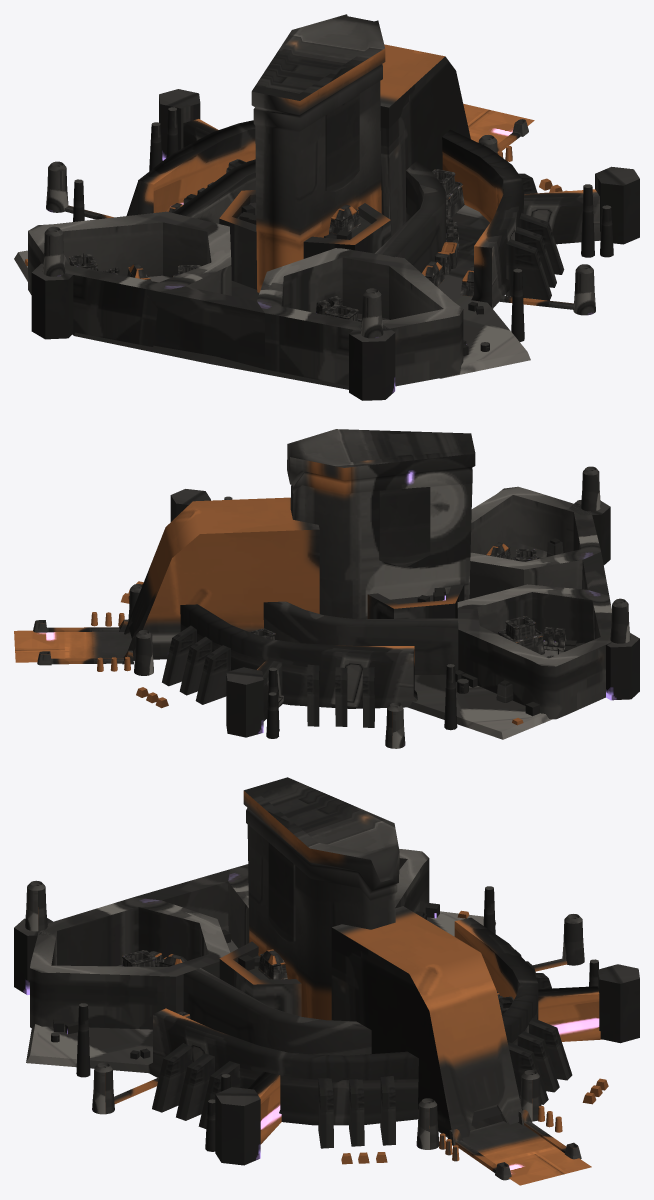
Rendered from ContractHall.fbx.
The picture shows the model from 3 angles, top to bottom: view 1: azimuth 30°, elevation 25°; view 2: azimuth 150°, elevation 25°; view 3: azimuth 270°, elevation 25°; orthographic projection. The views are drawn at different scales.
Parts seen in each view (by area): view 1: ConquestOutpost; view 2: ConquestOutpost; view 3: ConquestOutpost.
Part boxes in pixels (<box>): ConquestOutpost: <box>14,14,639,400</box>; ConquestOutpost: <box>14,429,639,748</box>; ConquestOutpost: <box>14,777,639,1185</box>.
Size of the model in its own units: 4088 by 1492 by 3690.
